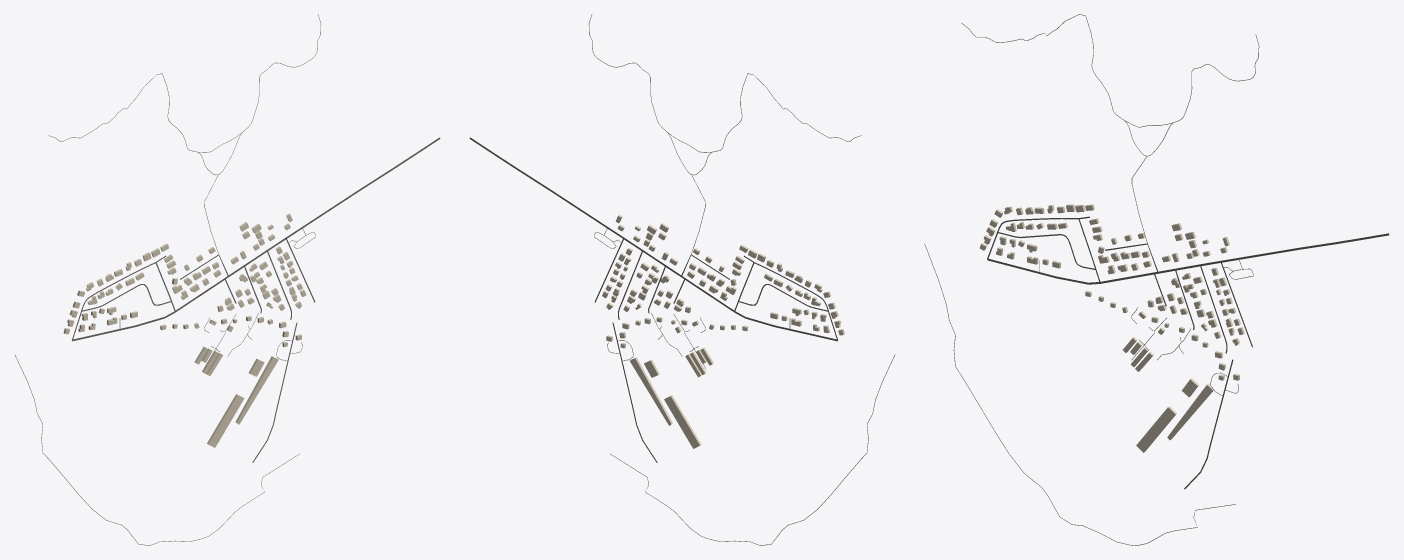
The model's file is historic-palestine-10_33_3518_3273.glb.
3 views of the same model, side by side, from view 1: azimuth 30°, elevation 25°; view 2: azimuth 150°, elevation 25°; view 3: azimuth 330°, elevation 25° (orthographic). The views are drawn at different scales.
Visible parts, largest first — view 1: Road .003, Building_.082, Building_.084; view 2: Road .003, Building_.082, Building_.084; view 3: Road .003, Building_.082, Road .001.
Boxes of the visible parts, <box> form: Road .003: <box>164,137,440,318</box>; Building_.082: <box>207,394,244,447</box>; Building_.084: <box>235,356,278,424</box>; Road .003: <box>469,137,745,318</box>; Building_.082: <box>664,395,701,448</box>; Building_.084: <box>630,357,672,425</box>; Road .003: <box>1088,233,1389,284</box>; Building_.082: <box>1136,406,1176,452</box>; Road .001: <box>924,243,1235,545</box>.
Bounding box in the file's own units: 1237 × 1379 × 8.7.
